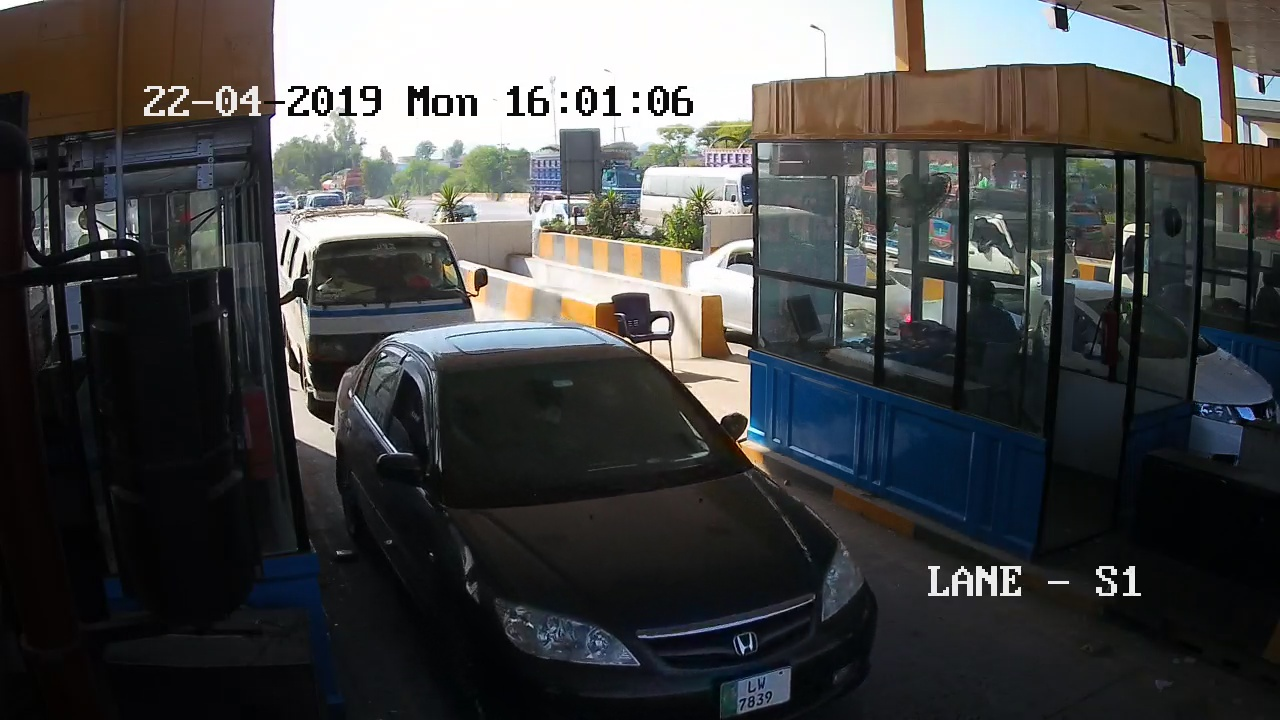car: (334, 331, 889, 720)
